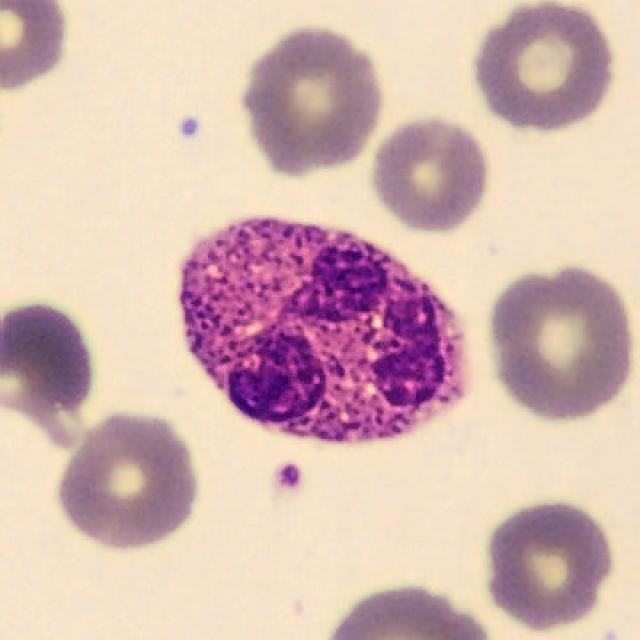Neutrofilo segmentado: (178, 217, 468, 446)
